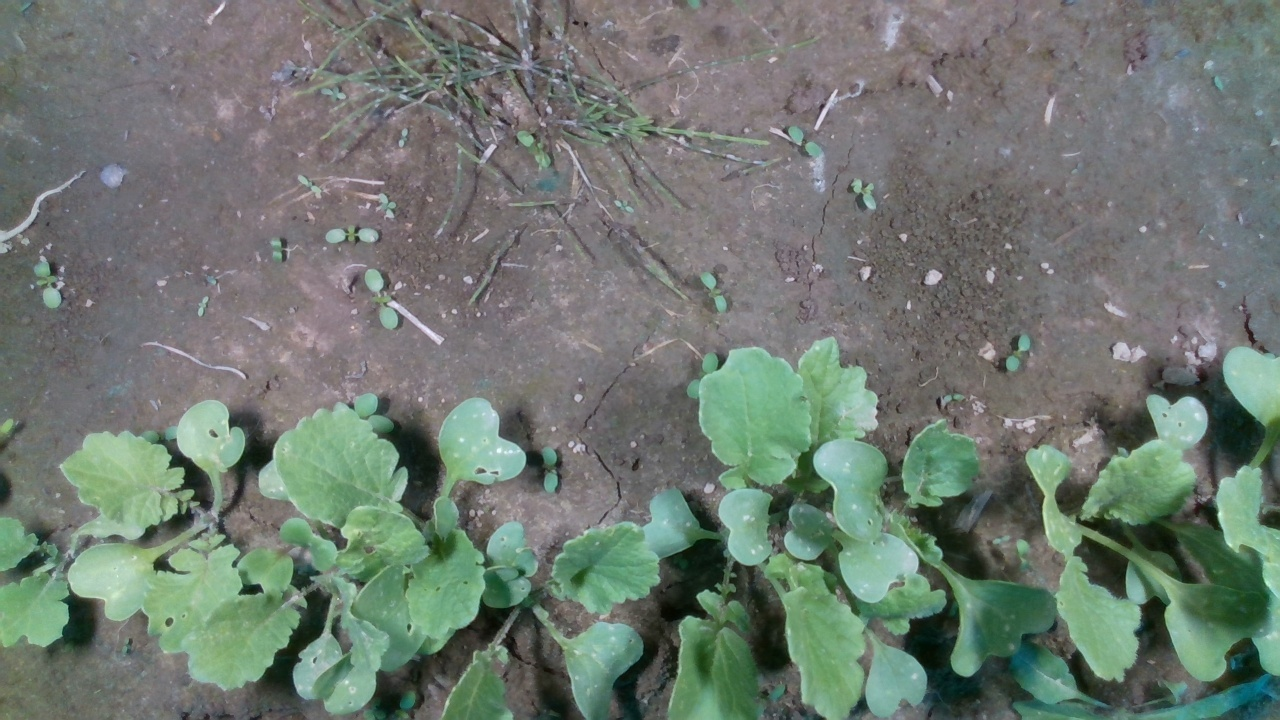weed: (364, 267, 400, 331), (697, 270, 729, 316), (34, 260, 62, 310), (786, 124, 823, 157), (323, 224, 379, 244), (1005, 333, 1031, 372), (541, 446, 560, 493), (376, 191, 398, 221), (296, 172, 322, 195), (268, 233, 285, 265), (196, 294, 210, 318)
